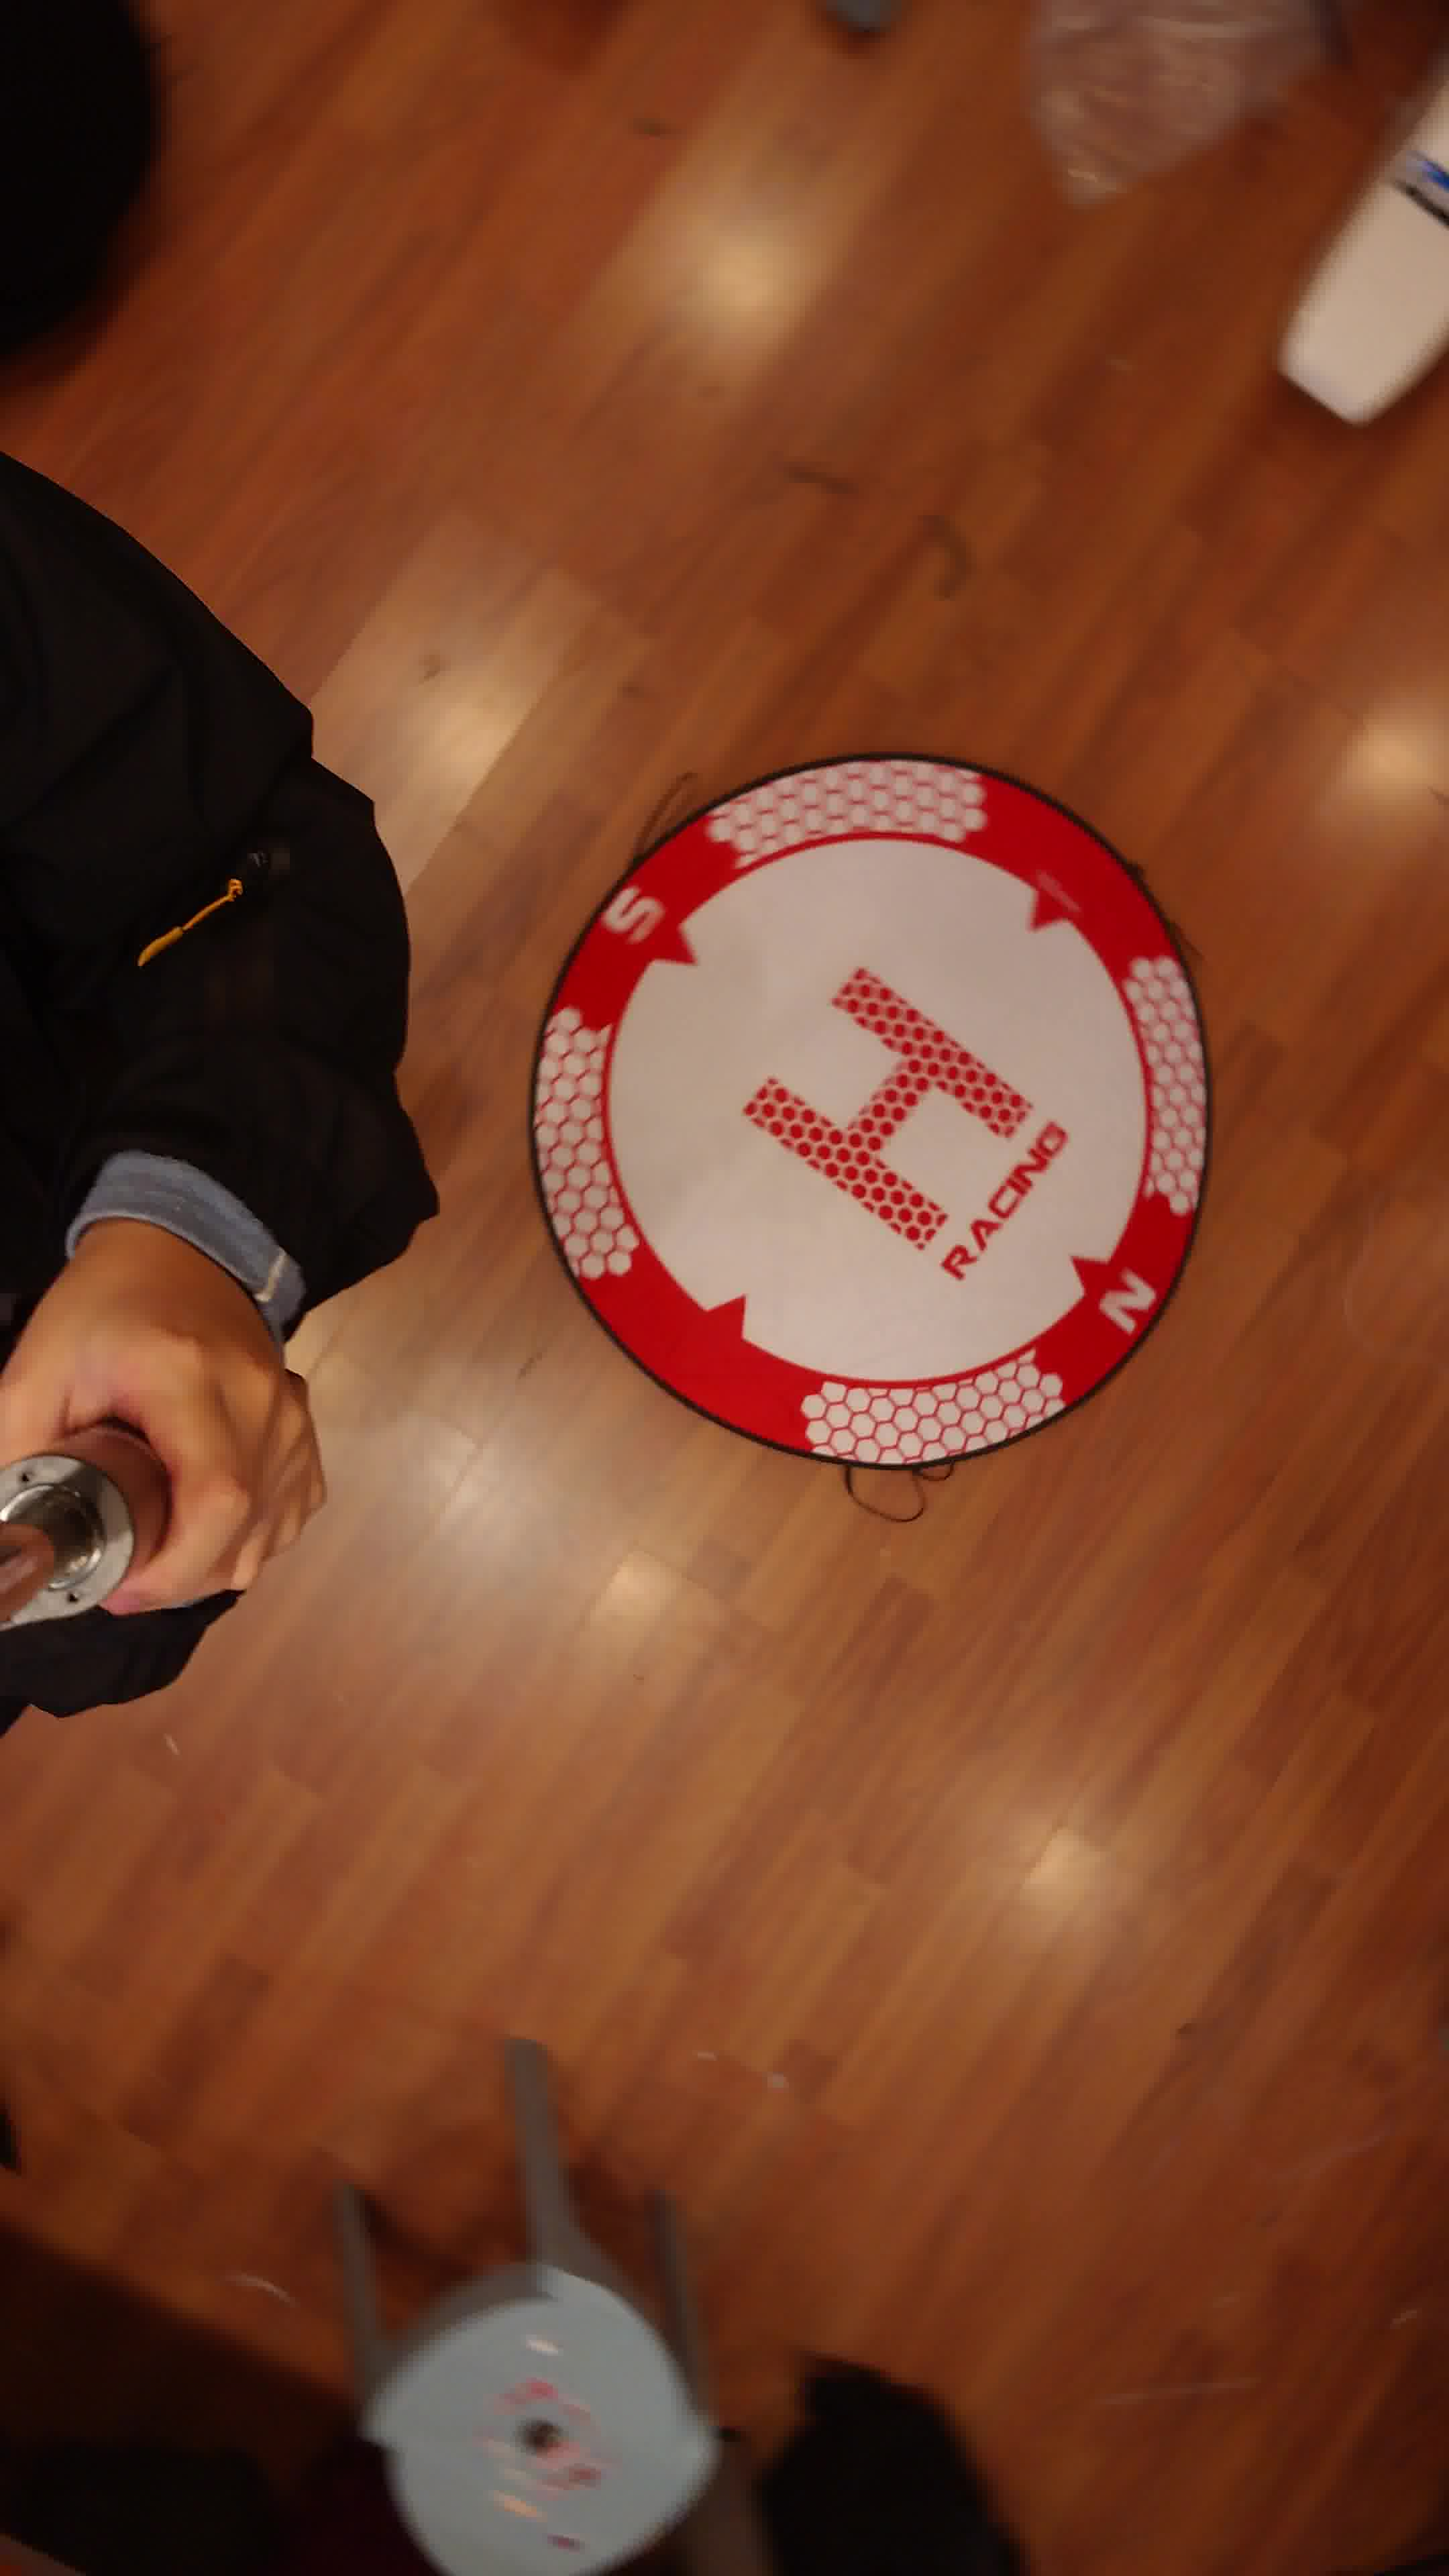H: (740, 964, 1035, 1251)
